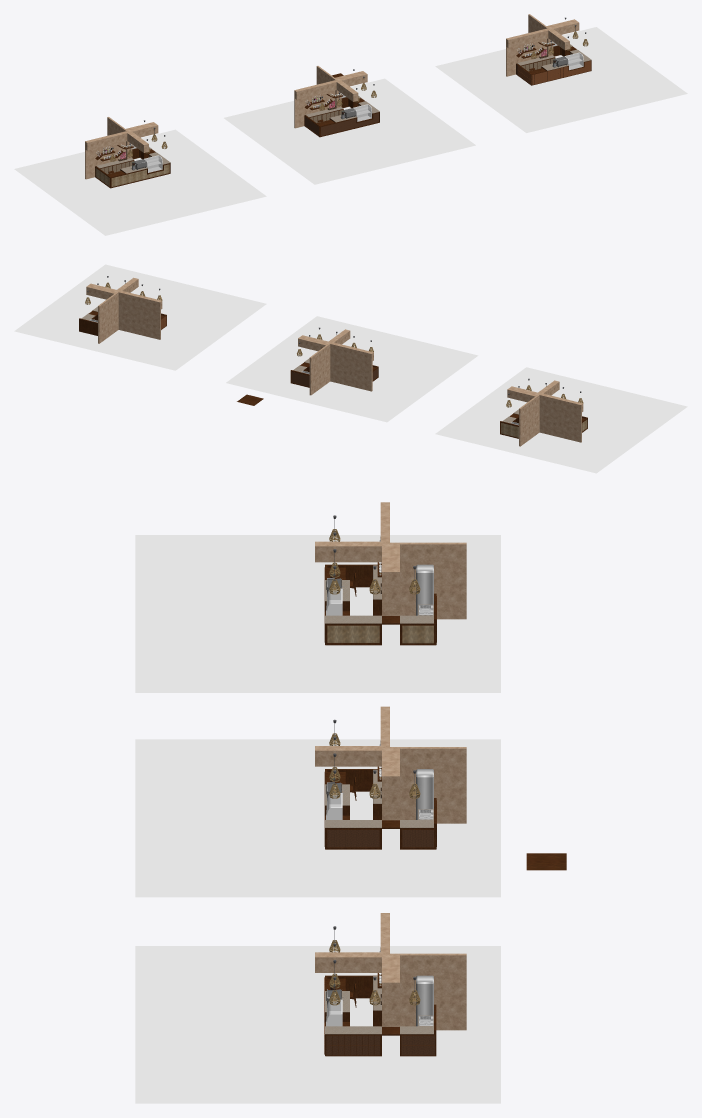
3 views of the same model, one above another, from view 1: azimuth 30°, elevation 25°; view 2: azimuth 150°, elevation 25°; view 3: azimuth 270°, elevation 25° (orthographic). The views are drawn at different scales.
Size of the model in its own units: 47.05 by 2.9 by 15.09.
Materials: 84 (51 with a texture image).
